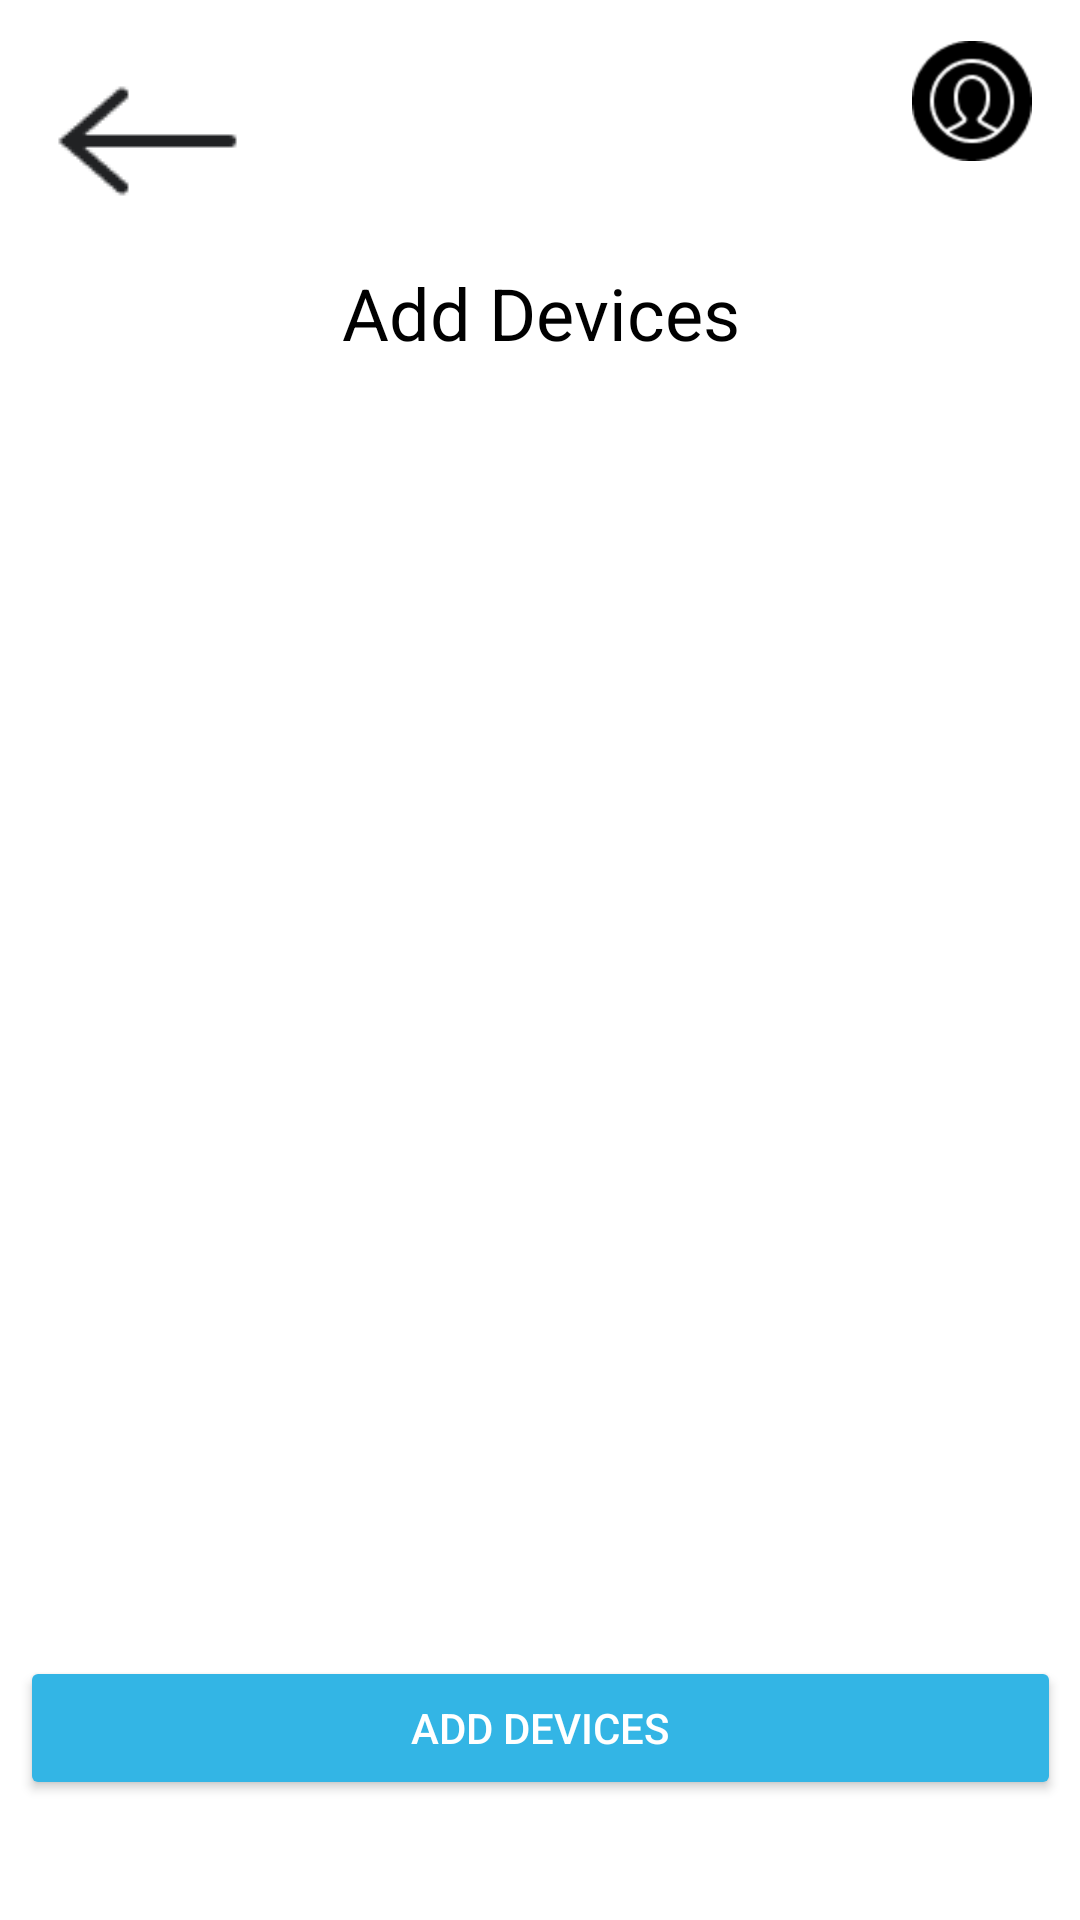

Icon bounding boxes for this 1080*1920 phone screenshot, format (x1, y1, x2, y2):
Back: (58, 86, 237, 196)
imgprofilepic: (912, 41, 1032, 161)
